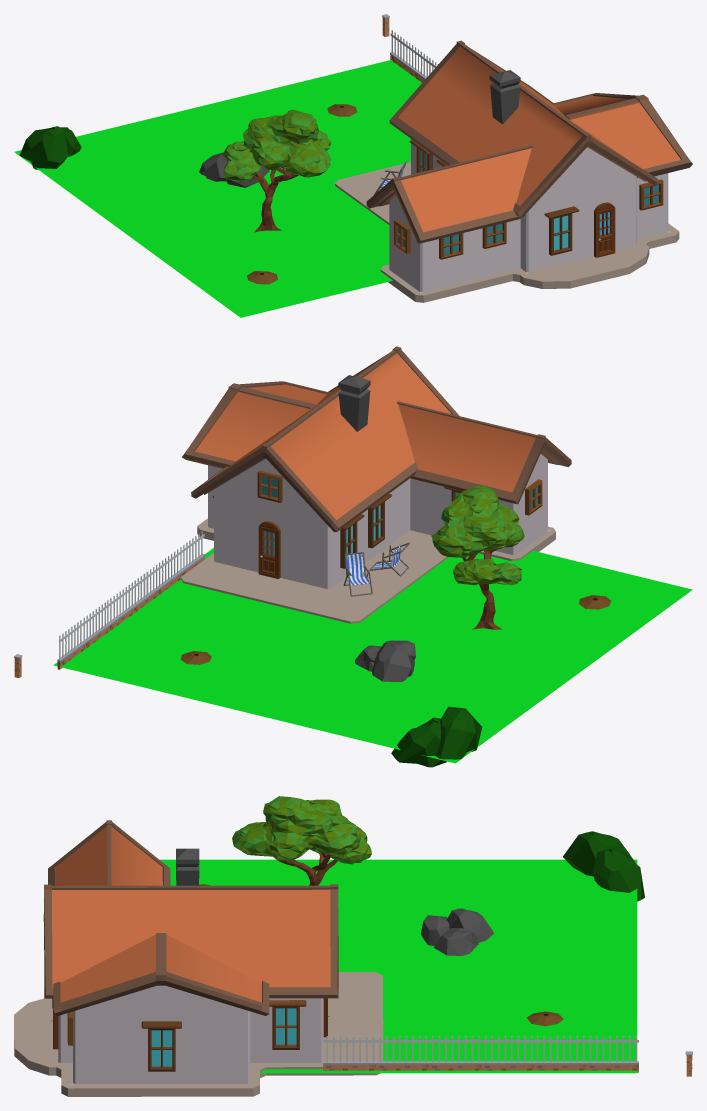
The model's file is Level design test SmolEasylevel.fbx.
3 renders of one model, top to bottom at view 1: azimuth 30°, elevation 25°; view 2: azimuth 150°, elevation 25°; view 3: azimuth 270°, elevation 25°, orthographic. The views are drawn at different scales.
Visible parts, largest first — view 1: House_Small, Plane, TreeBase, medium_Rock_1.002, Fence_middle.004, medium_Rock_1.001; view 2: House_Small, Plane, TreeBase, medium_Rock_1.002, medium_Rock_1.003, medium_Rock_1.001, Chair_Deck, Fence_middle.003, Fence_middle.004, Fence_middle.002, Fence_middle.005, Fence_middle.001; view 3: House_Small, Plane, TreeBase, medium_Rock_1.003, medium_Rock_1.002, Fence_middle.003, Fence_middle.004, Fence_middle, Fence_middle.002, Fence_middle.001, Fence_middle.005, medium_Rock_3 (+2 smaller).
Boxes of the visible parts, box(x1,y1,x2,y2) form: House_Small: box(335, 40, 692, 302); Plane: box(14, 60, 421, 317); TreeBase: box(222, 109, 331, 232); medium_Rock_1.002: box(19, 126, 68, 169); Fence_middle.004: box(390, 30, 414, 75); medium_Rock_1.001: box(199, 152, 227, 181); House_Small: box(180, 346, 571, 623); Plane: box(53, 548, 692, 763); TreeBase: box(431, 485, 524, 629); medium_Rock_1.002: box(435, 706, 482, 759); medium_Rock_1.003: box(391, 717, 446, 767); medium_Rock_1.001: box(372, 643, 414, 681); Chair_Deck: box(343, 552, 372, 596); Fence_middle.003: box(130, 567, 156, 614); Fence_middle.004: box(57, 620, 84, 669); Fence_middle.002: box(106, 584, 132, 631); Fence_middle.005: box(82, 602, 108, 649); Fence_middle.001: box(154, 549, 181, 596); House_Small: box(14, 820, 383, 1096); Plane: box(160, 859, 637, 1073); TreeBase: box(232, 796, 371, 885); medium_Rock_1.003: box(592, 848, 644, 901); medium_Rock_1.002: box(563, 831, 635, 876); Fence_middle.003: box(428, 1036, 481, 1070); Fence_middle.004: box(586, 1036, 638, 1072); Fence_middle: box(323, 1036, 375, 1070); Fence_middle.002: box(481, 1036, 534, 1070); Fence_middle.001: box(376, 1036, 428, 1070); Fence_middle.005: box(533, 1036, 586, 1070); medium_Rock_3: box(433, 928, 478, 955).
Bounding box in the file's own units: 7711 × 2997 × 9372.
